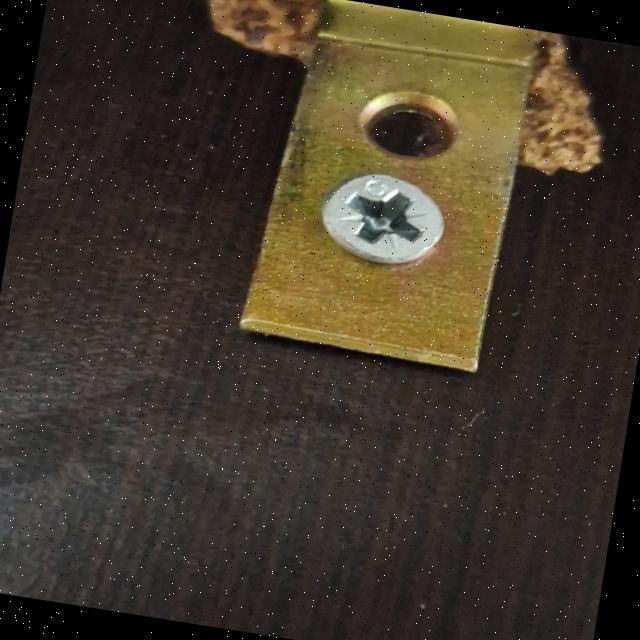Phillips: (320, 170, 464, 276)
